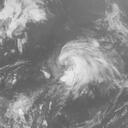cyclone: (58, 39, 114, 94)
